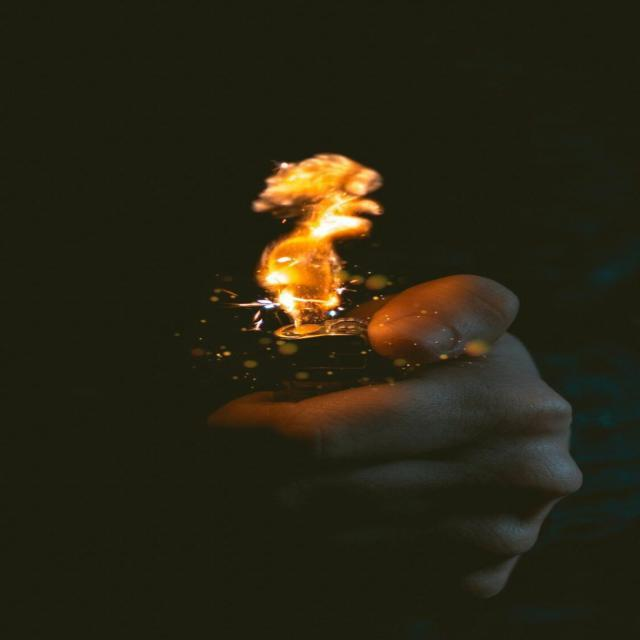Fire: (194, 132, 462, 352)
